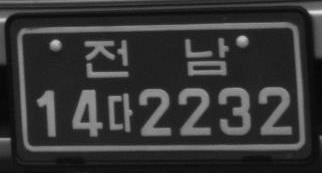1: (32, 88, 62, 137)
2: (257, 84, 293, 137), (177, 86, 213, 138), (138, 86, 172, 137)
3: (216, 86, 252, 137)
4: (70, 87, 104, 138)
다: (106, 92, 134, 133)
전남_D: (82, 36, 230, 79)
